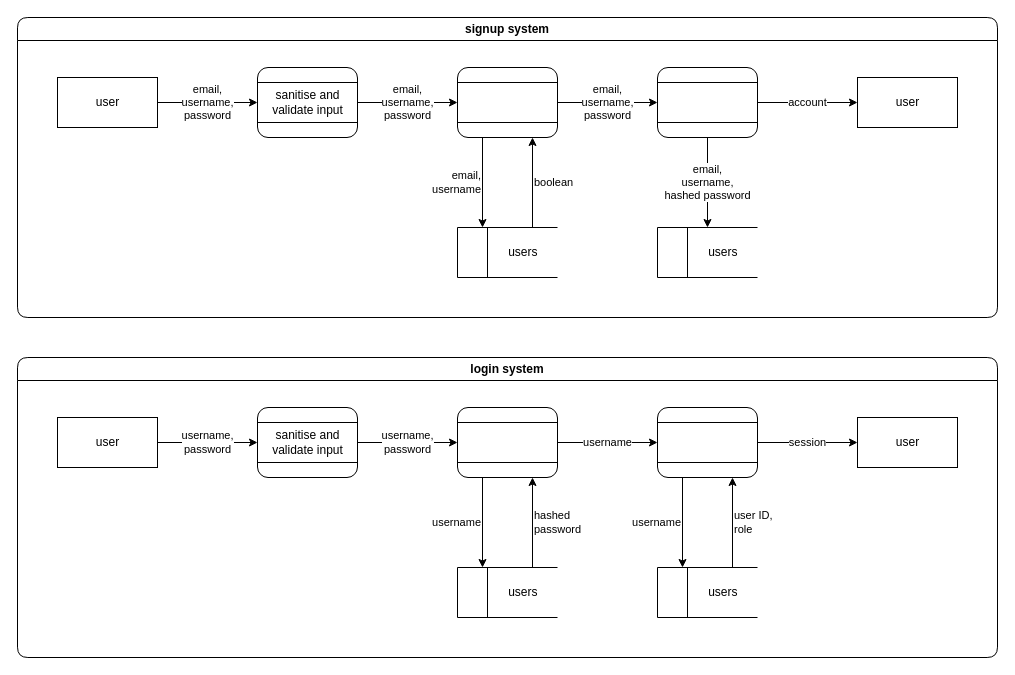
This 1015x675 diagram has some shape labels left out. The shapes that lost their labels are listed below. From the top down, each one's centre as x and y in pixels, then its label:
At point (507, 102): "verify that account is available".
At point (707, 102): "create account".
At point (507, 442): "verify that passwords match".
At point (707, 442): "create browser session".
